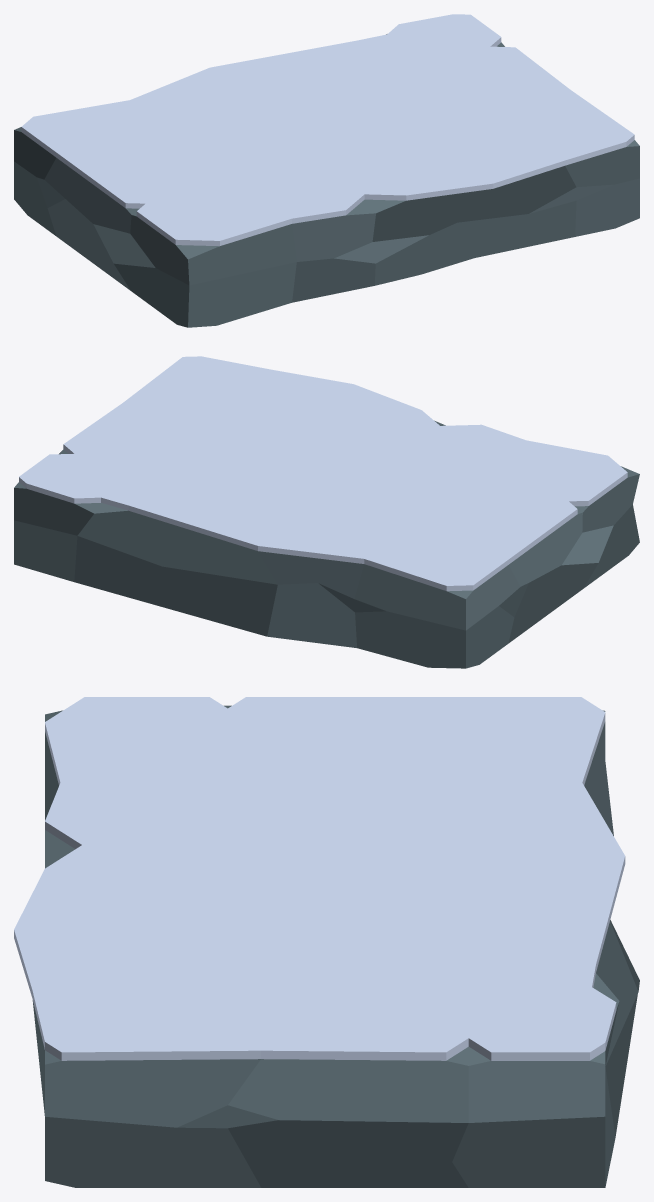
Rendered from SnowPlatform(6x4x1).fbx.
3 renders of one model, top to bottom at view 1: azimuth 30°, elevation 25°; view 2: azimuth 150°, elevation 25°; view 3: azimuth 270°, elevation 25°, orthographic. The views are drawn at different scales.
Parts seen in each view (by area): view 1: rock; view 2: rock; view 3: rock.
Boxes of the visible parts, left/top/right/bottom form: rock: left=14, top=14, right=639, bottom=327; rock: left=14, top=356, right=639, bottom=668; rock: left=14, top=697, right=639, bottom=1187.
Bounding box in the file's own units: 650 × 107 × 447.
